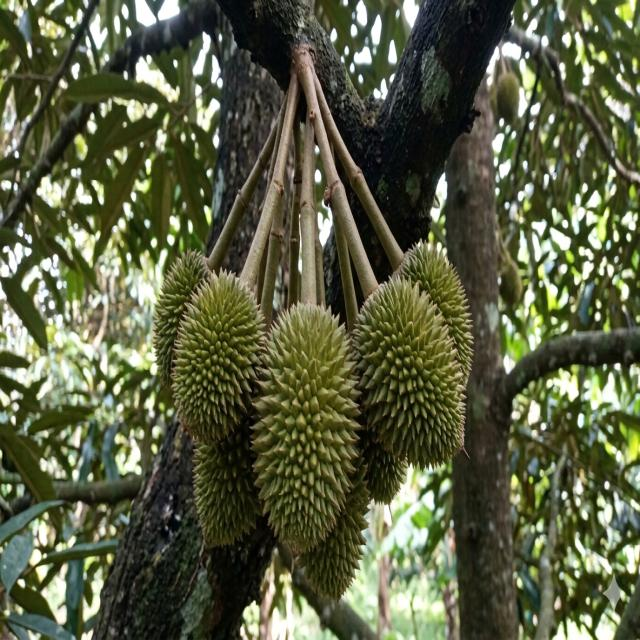immature: (249, 298, 366, 566), (351, 268, 466, 478), (171, 268, 268, 452), (193, 412, 268, 547), (151, 248, 213, 395), (496, 72, 520, 123), (500, 264, 523, 308)
